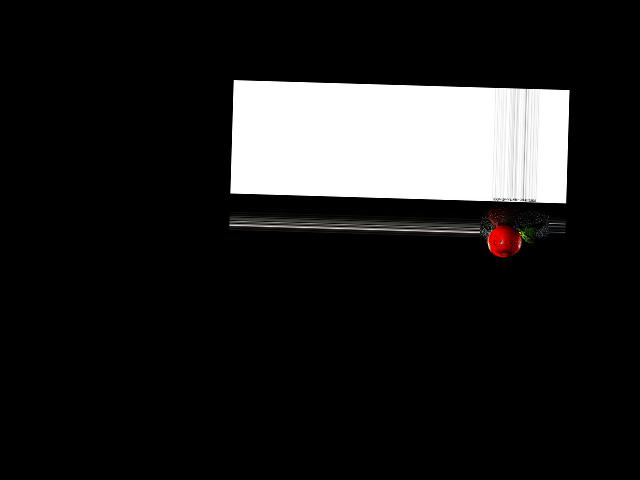tomato: (487, 225, 522, 258)
